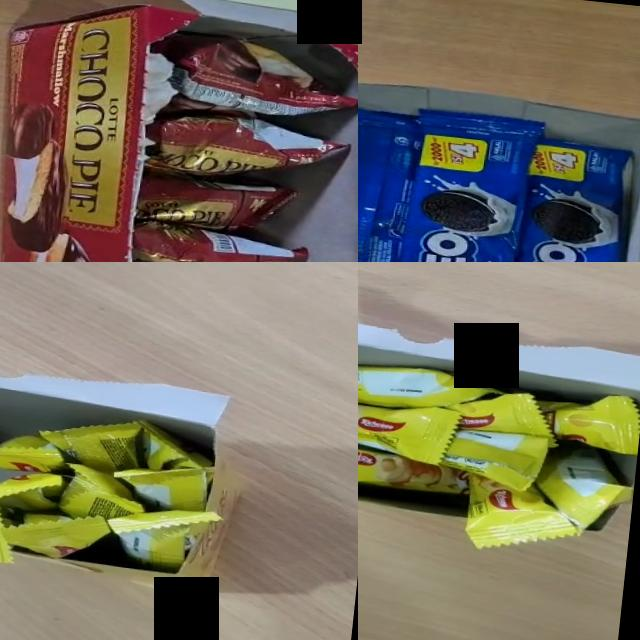Ahh: (460, 471, 584, 560), (358, 346, 506, 419), (527, 440, 637, 537), (358, 372, 462, 466), (101, 500, 224, 577), (358, 428, 473, 503), (434, 424, 550, 494), (440, 384, 565, 448), (528, 386, 640, 455), (34, 412, 146, 474), (50, 462, 149, 526), (0, 508, 113, 563), (110, 455, 214, 513), (132, 420, 216, 478), (0, 427, 72, 476), (0, 464, 69, 513), (0, 497, 23, 564)
Chocopie: (144, 28, 358, 121), (142, 108, 351, 191), (134, 166, 296, 237), (128, 219, 307, 262)
Oreo: (375, 105, 546, 262), (493, 134, 638, 262), (358, 96, 424, 262)
